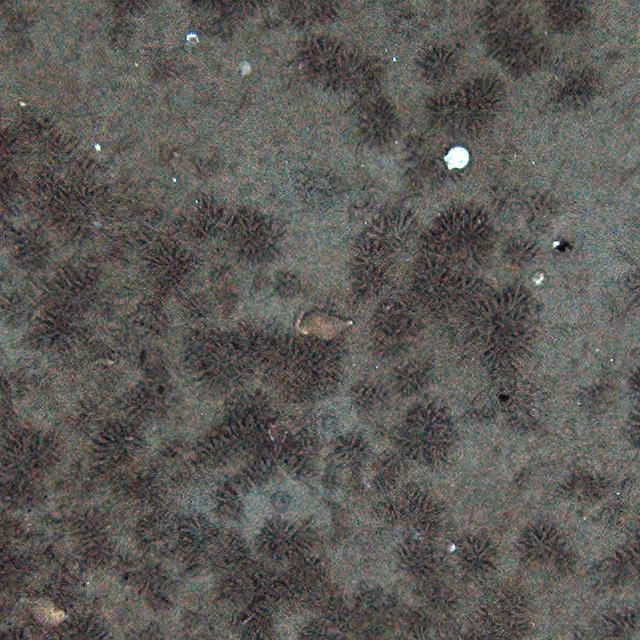whelk: (300, 307, 358, 341)
